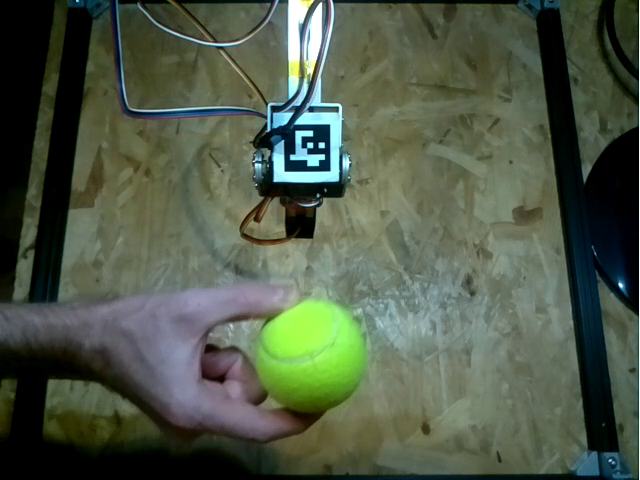tennis_ball: (254, 300, 366, 413)
